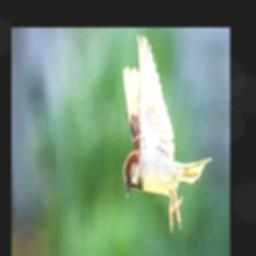Sparrow: (121, 35, 212, 231)
